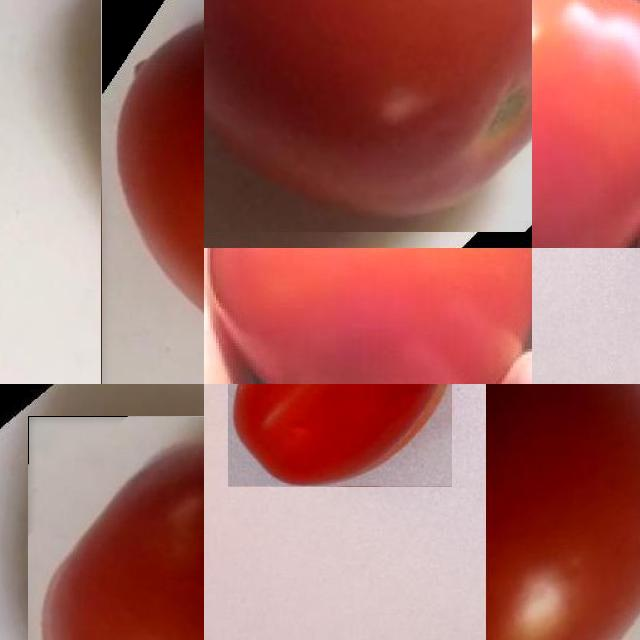0: (100, 0, 204, 384)
Fresh Tomato: (204, 0, 532, 232), (204, 248, 532, 384), (28, 416, 204, 640), (486, 384, 640, 640), (532, 0, 640, 248)
Rotten Tomato: (227, 384, 452, 486)
